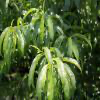Peach leaf: (26, 53, 42, 92), (52, 58, 66, 92), (71, 33, 93, 52), (63, 62, 75, 96), (62, 56, 83, 75), (5, 31, 14, 73), (46, 65, 54, 99), (15, 27, 24, 57), (46, 17, 54, 44), (42, 46, 53, 64), (42, 66, 48, 94), (39, 14, 44, 47)
